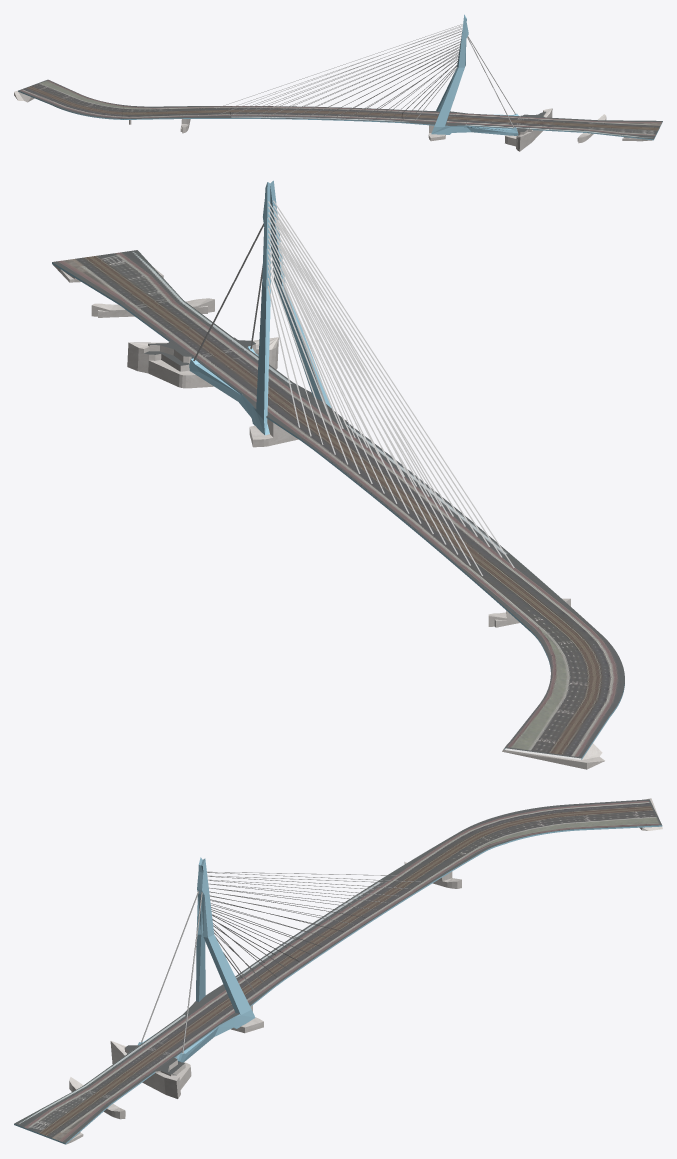
The model's file is erasmusbrug.glb.
3 views of the same model, one above another, from view 1: azimuth 30°, elevation 25°; view 2: azimuth 150°, elevation 25°; view 3: azimuth 270°, elevation 25° (orthographic). The views are drawn at different scales.
Visible parts, largest first — view 1: CITY_MODEL; view 2: CITY_MODEL; view 3: CITY_MODEL.
Part boxes in pixels (x1,y1,x2,y2): CITY_MODEL: (14,14,662,151); CITY_MODEL: (52,180,624,769); CITY_MODEL: (14,798,662,1144).
Size of the model in its own units: 578 by 146 by 459.
Materials: 5 (4 with a texture image).
